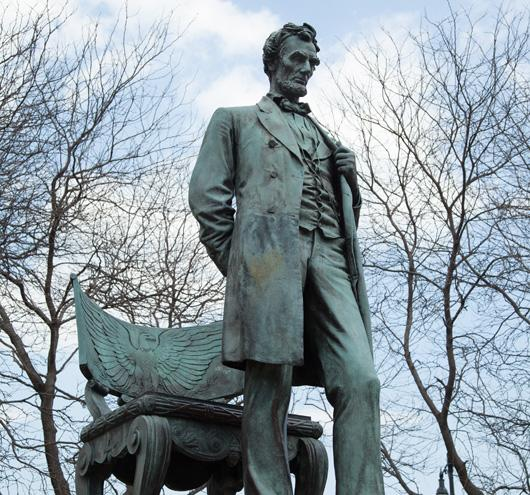person-like: (184, 18, 388, 495)
